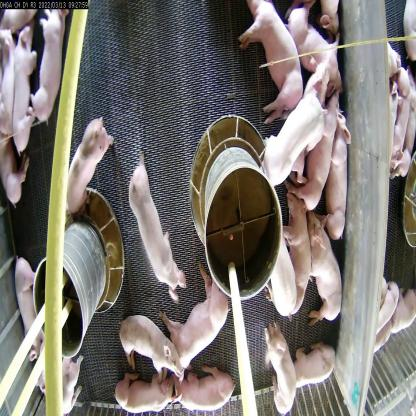Pig: (126, 151, 193, 301), (254, 76, 327, 196), (156, 266, 232, 375), (236, 0, 300, 118), (60, 116, 112, 214), (276, 178, 314, 308), (303, 218, 346, 327), (11, 256, 53, 360), (298, 89, 337, 200), (31, 8, 67, 125), (119, 316, 188, 375), (257, 317, 297, 416), (12, 31, 38, 158), (327, 112, 353, 236), (262, 242, 303, 318), (167, 365, 236, 410), (115, 372, 177, 415), (289, 345, 340, 395)
